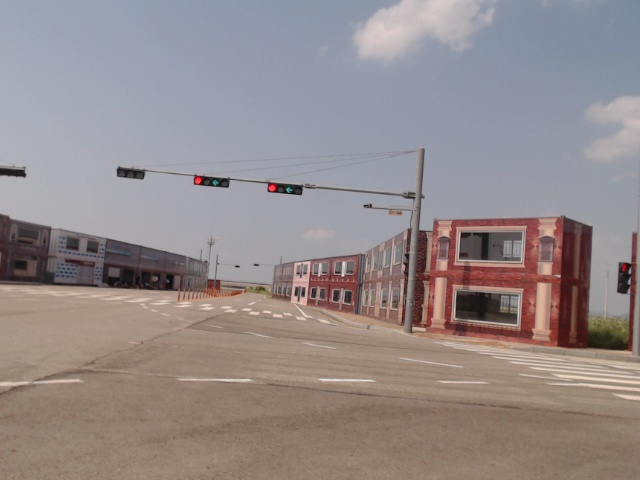left_green_4: (194, 175, 228, 187), (269, 183, 302, 195)
